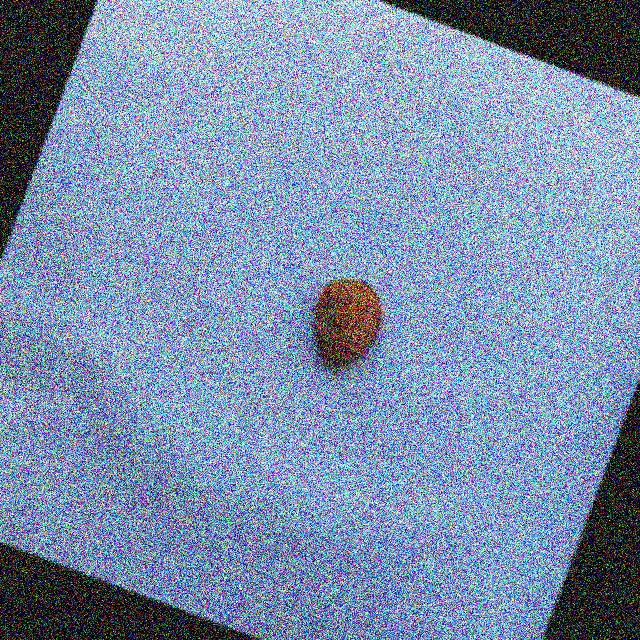grade3: (292, 263, 396, 382)
